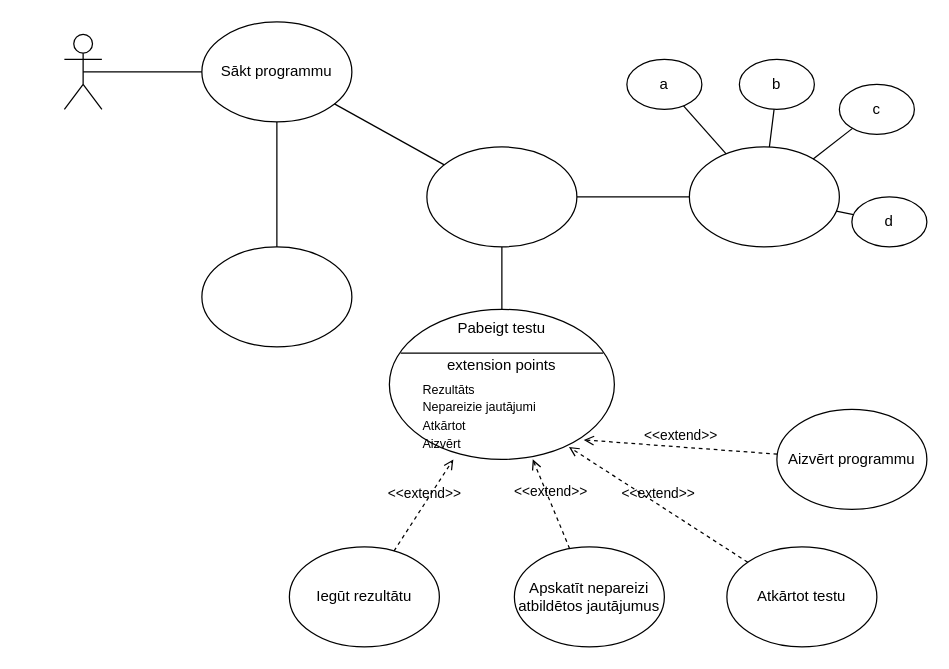
This 949x669 diagram has some shape labels left out. The shapes that lost their labels are listed below. From the top down, each one's centre as x and y in pixels, then its label:
At point 82,71: "Windows OS User".
At point 501,196: "Sākt testu".
At point 763,196: "Izvēlēties atbildi".
At point 276,296: "Pārtraukt programmu".
